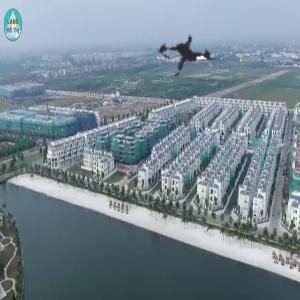drone: (136, 5, 242, 111)
